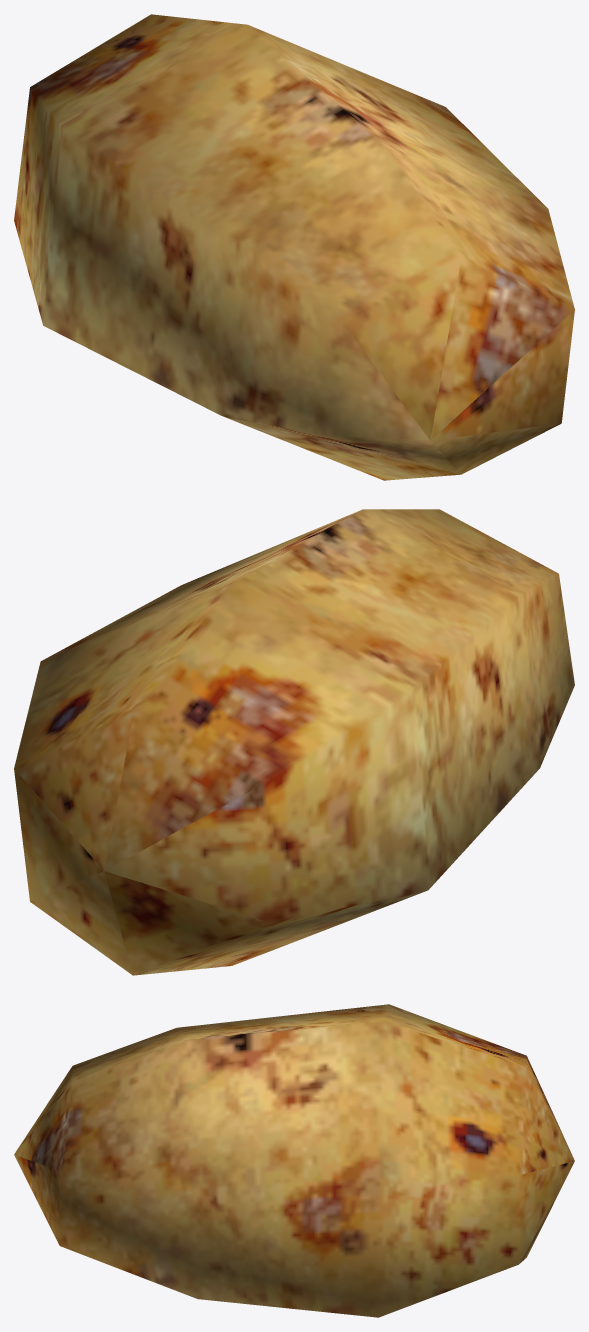
File: potato_small.dae
3 renders of one model, top to bottom at view 1: azimuth 30°, elevation 25°; view 2: azimuth 150°, elevation 25°; view 3: azimuth 270°, elevation 25°, orthographic. The views are drawn at different scales.
Parts seen in each view (by area): view 1: potato_small; view 2: potato_small; view 3: potato_small.
Part boxes in pixels (box(x1,y1,x2,y2)): potato_small: box(14, 14, 574, 480); potato_small: box(14, 509, 574, 975); potato_small: box(14, 1004, 574, 1317).
Bounding box in the file's own units: 0.068 × 0.0629 × 0.1139.
